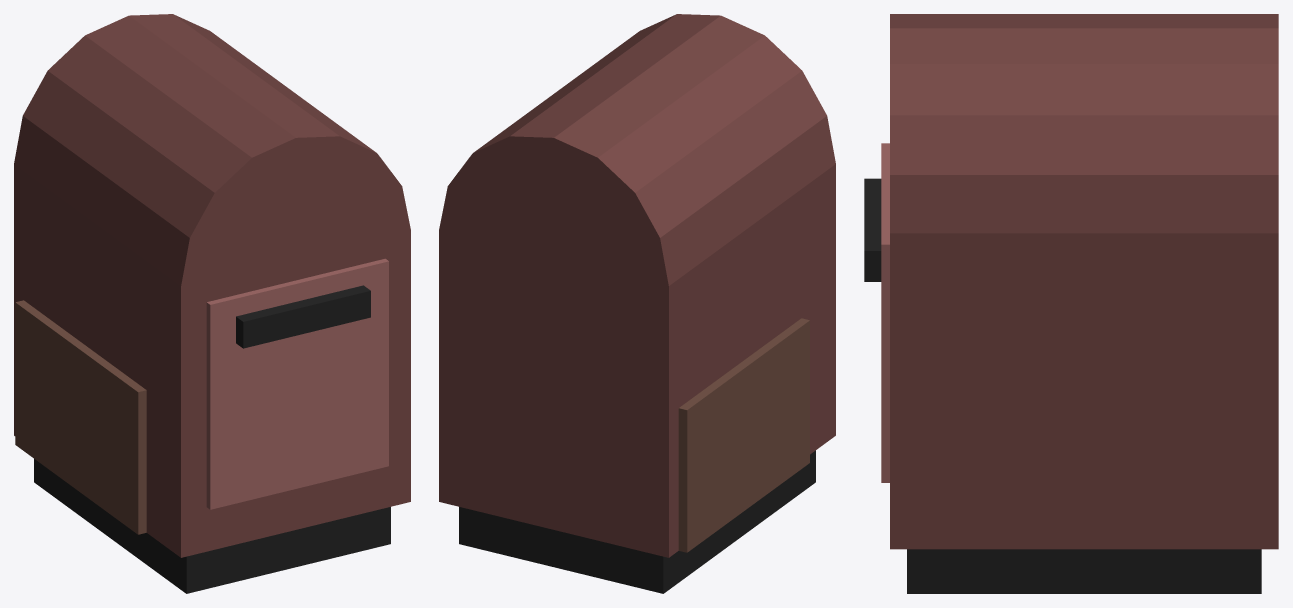
File: junk_postbox.obj
The picture shows the model from 3 angles, left to right: view 1: azimuth 30°, elevation 25°; view 2: azimuth 150°, elevation 25°; view 3: azimuth 270°, elevation 25°; orthographic projection. The views are drawn at different scales.
Parts seen in each view (by area): view 1: junk_postbox_0, junk_postbox_2, junk_postbox_4, junk_postbox_1, junk_postbox_3; view 2: junk_postbox_0, junk_postbox_4, junk_postbox_1; view 3: junk_postbox_0, junk_postbox_1, junk_postbox_2, junk_postbox_3.
Part boxes in pixels (bbox=[...]): junk_postbox_0: bbox=[14, 14, 410, 557]; junk_postbox_2: bbox=[206, 258, 388, 509]; junk_postbox_4: bbox=[15, 300, 146, 534]; junk_postbox_1: bbox=[34, 459, 390, 593]; junk_postbox_3: bbox=[236, 285, 370, 348]; junk_postbox_0: bbox=[439, 14, 835, 557]; junk_postbox_4: bbox=[678, 318, 809, 552]; junk_postbox_1: bbox=[459, 450, 815, 593]; junk_postbox_0: bbox=[890, 14, 1278, 549]; junk_postbox_1: bbox=[907, 549, 1261, 593]; junk_postbox_2: bbox=[881, 143, 889, 482]; junk_postbox_3: bbox=[864, 178, 881, 281].
Size of the model in its own units: 0.56 by 0.98 by 0.725.
